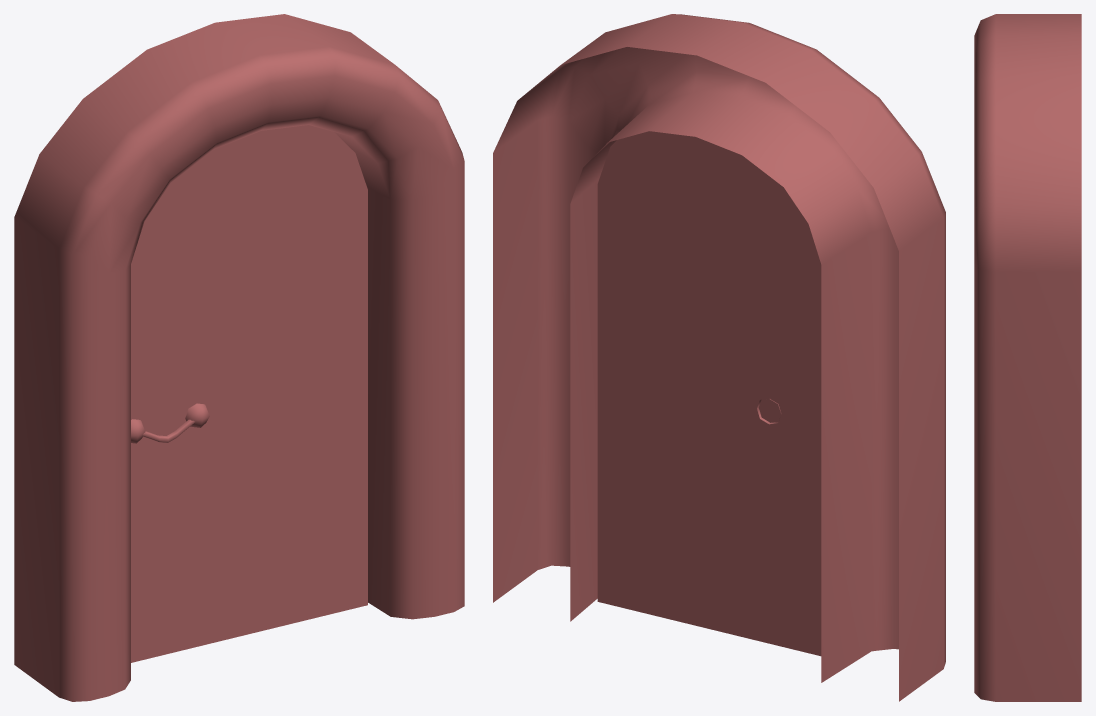
Rendered from Doors_1.fbx.
3 renders of one model, left to right at view 1: azimuth 30°, elevation 25°; view 2: azimuth 150°, elevation 25°; view 3: azimuth 270°, elevation 25°, orthographic. The views are drawn at different scales.
Visible parts, largest first — view 1: D_1; view 2: D_1; view 3: D_1.
Boxes of the visible parts, bbox=[...] form: D_1: bbox=[14, 14, 464, 701]; D_1: bbox=[493, 14, 945, 701]; D_1: bbox=[974, 14, 1081, 701].
Size of the model in its own units: 215 by 303 by 51.62.
